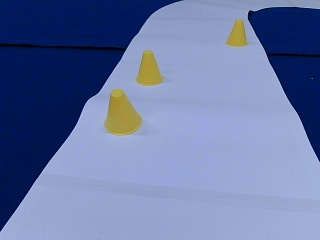cone: (104, 90, 143, 134), (135, 51, 163, 86), (226, 20, 247, 46)
